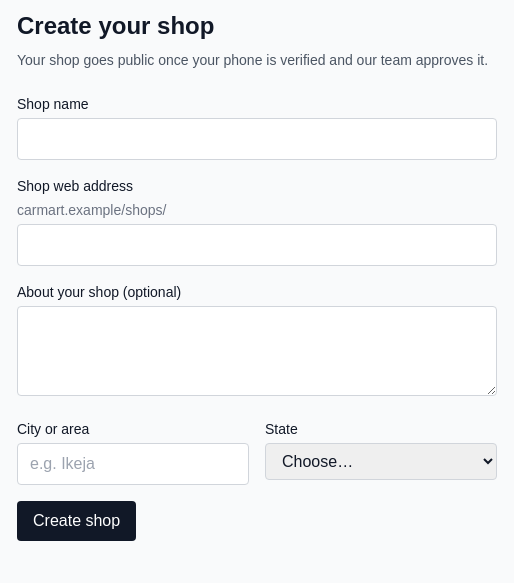
it: /sell/shop create form › validates the slug before submitting
The image size is (514, 583).
Step 1. Type "Coastal Cars" into the field labelled "Shop name" → x=257, y=139, box [17,118,497,160]
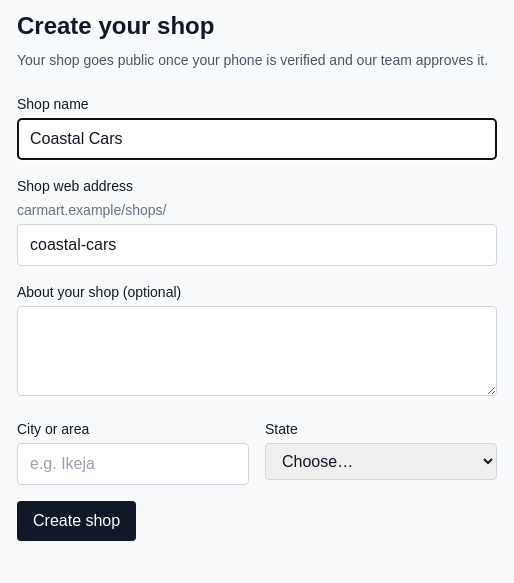
Step 2. Replace the text in the field labelled "Shop web address" with "Coastal Cars" → x=257, y=245, box [17,224,497,266]
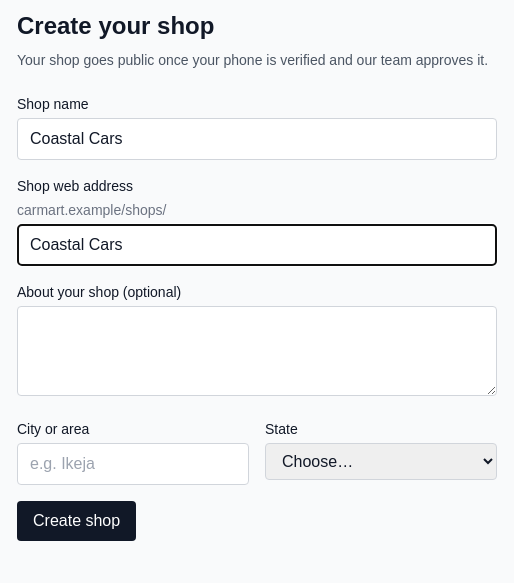
Step 3. Type "Ikeja" into the field labelled "City or area" → x=133, y=464, box [17,443,249,485]
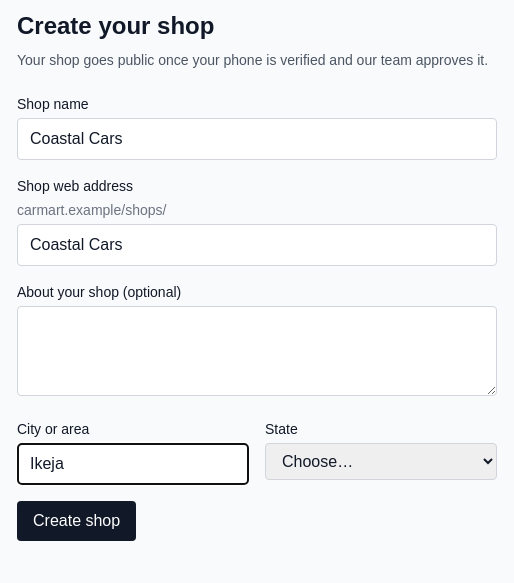
Step 4. Select "Lagos" in the dropdown labelled "State" → x=381, y=462, box [265,443,497,480]
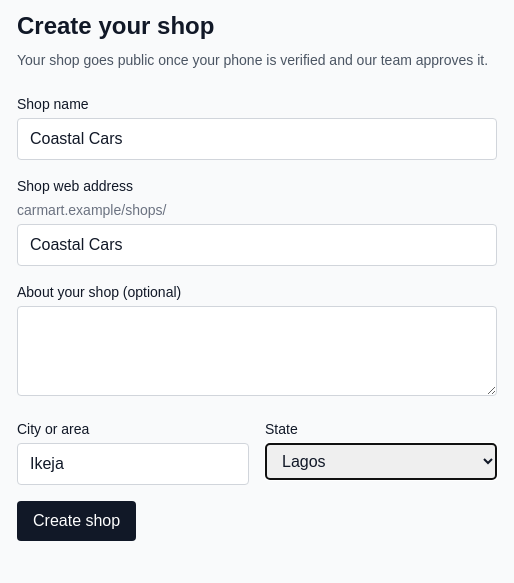
Step 5. Click the button "Create shop" → x=77, y=521, box [17,501,136,541]
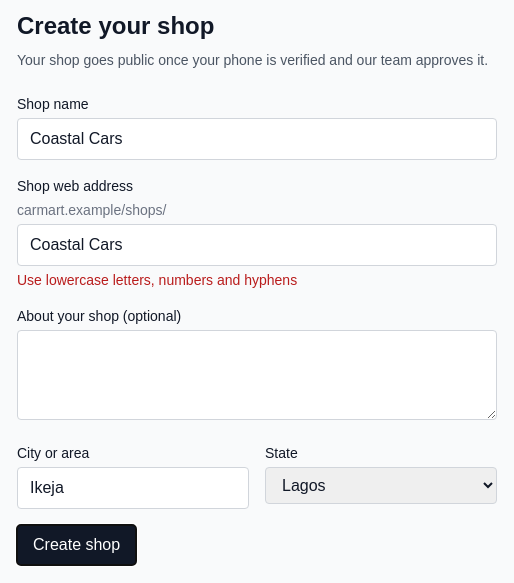
expect the text "Use lowercase letters, numbers and hyphens" is shown: met, box [17,272,297,288]
